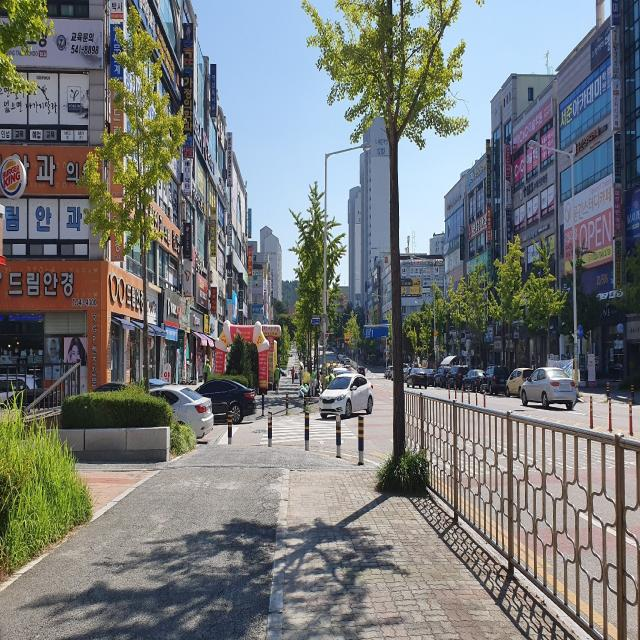횡단보도: (259, 410, 358, 445)
